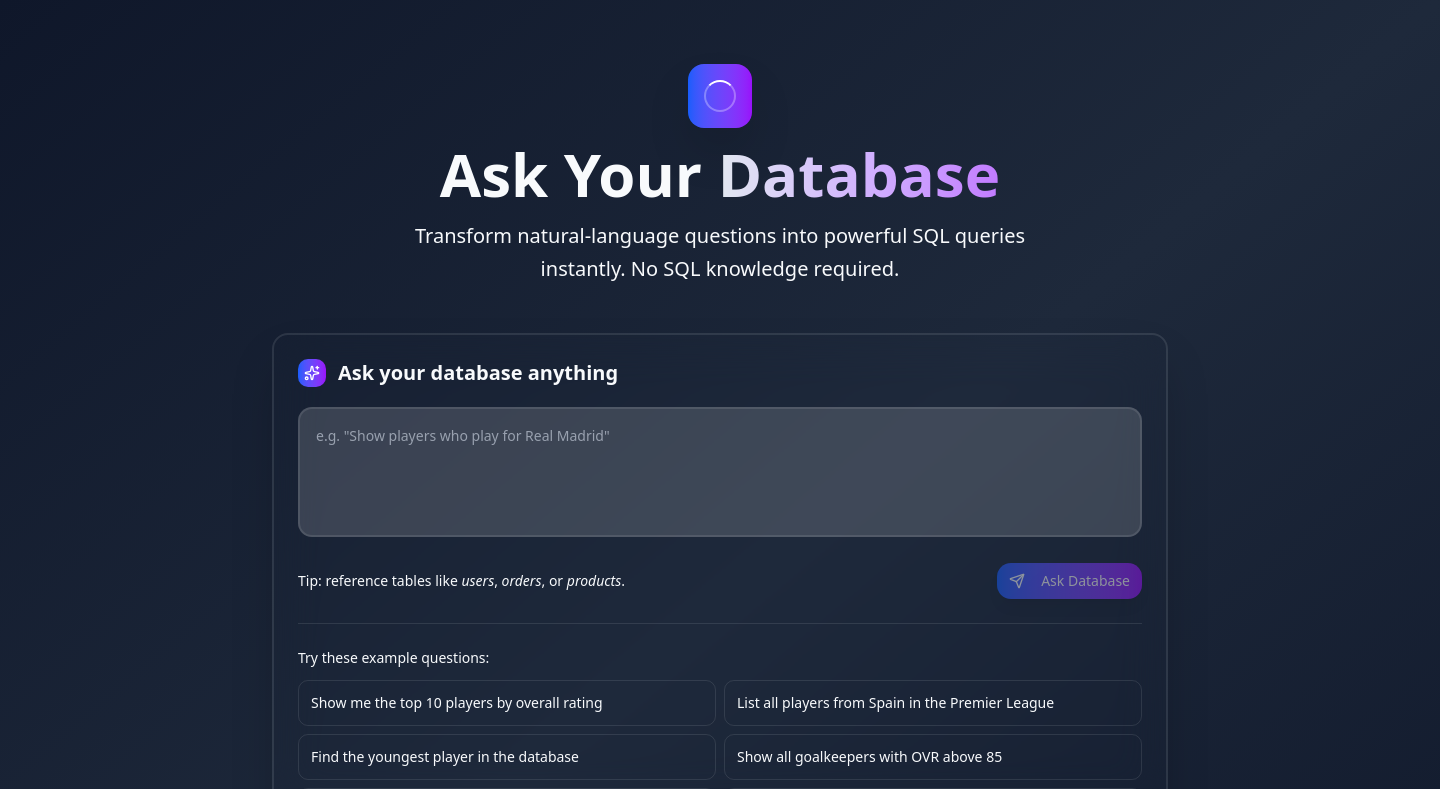
QueryInterface Page › Query Submission › handles query errors gracefully
The width and height of the screenshot is (1440, 789).
Type "Invalid query" into the text box at (720, 472), box left=298, top=407, right=1142, bottom=537
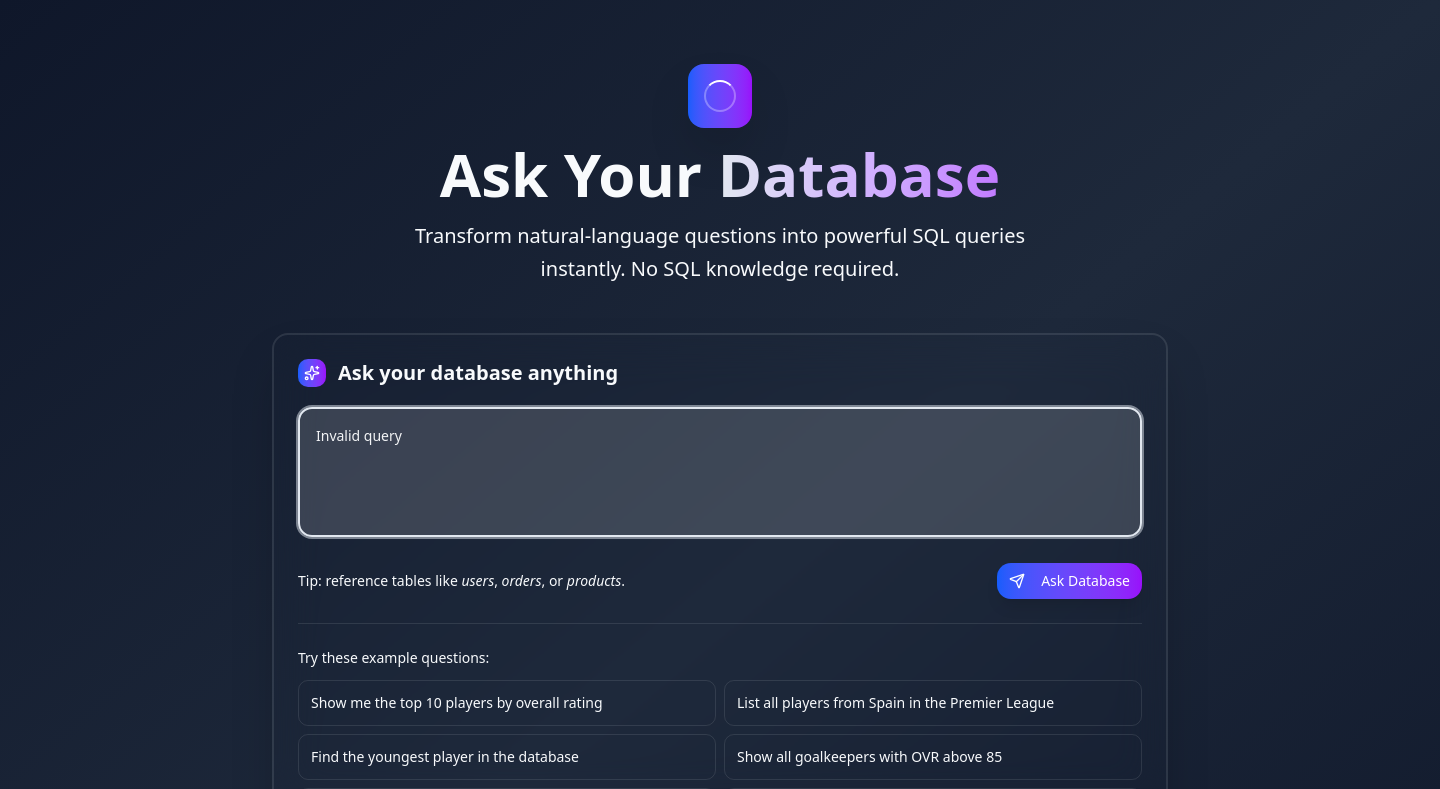
Click the submit button at (1070, 581), box left=997, top=563, right=1142, bottom=599
(page scrolled)
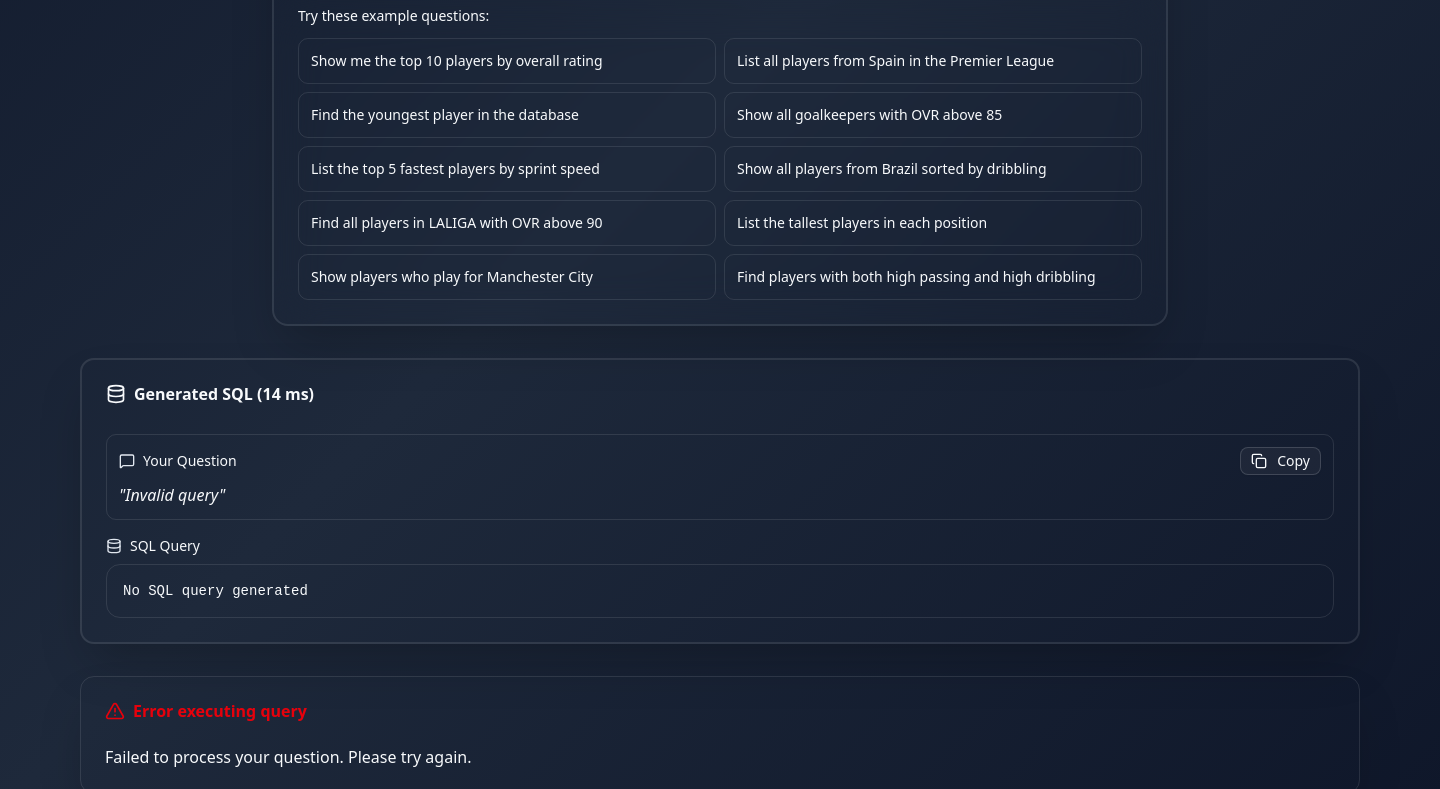
expect the text "Failed to process your question. Please try again." is shown: met, box left=105, top=746, right=472, bottom=768
